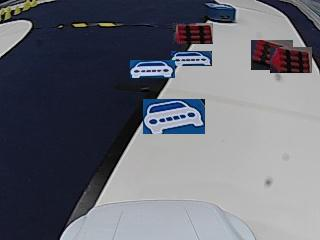prop: (207, 4, 235, 23)
